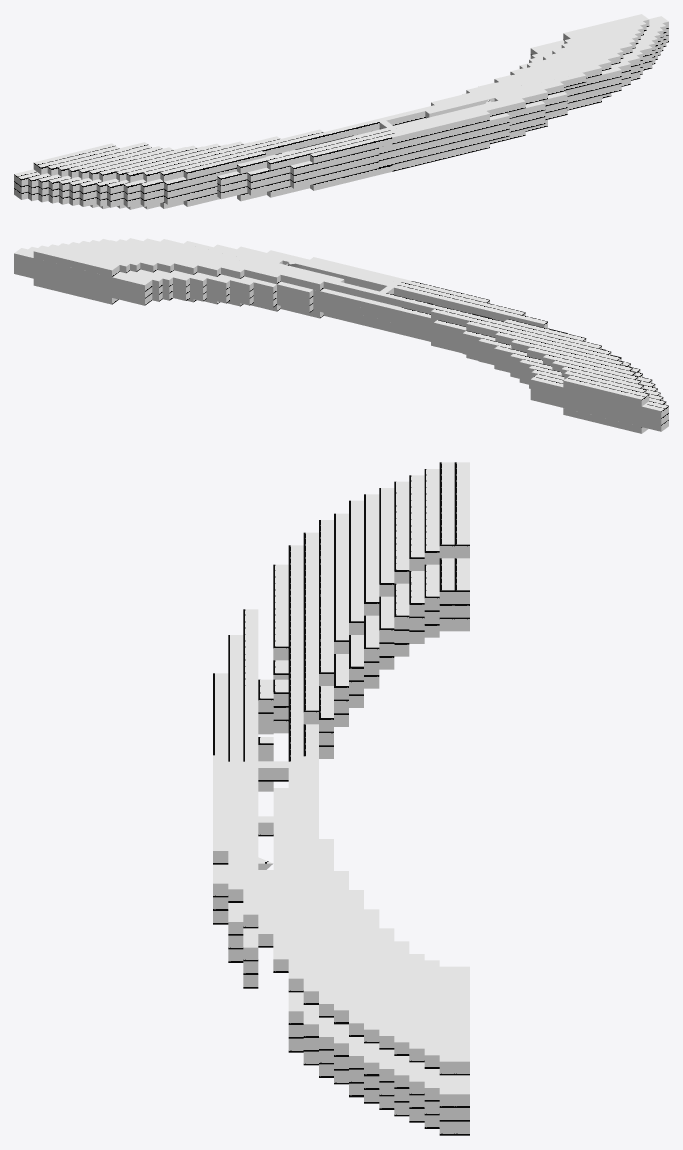
Rendered from VoxelBeamOBJ.obj.
The picture shows the model from 3 angles, top to bottom: view 1: azimuth 30°, elevation 25°; view 2: azimuth 150°, elevation 25°; view 3: azimuth 270°, elevation 25°; orthographic projection. The views are drawn at different scales.
Visible parts, largest first — view 1: polySurface1836; view 2: polySurface1836; view 3: polySurface1836.
Part boxes in pixels (<box>): polySurface1836: <box>14,14,668,209</box>; polySurface1836: <box>14,238,668,433</box>; polySurface1836: <box>213,462,469,1135</box>.
Size of the model in its own units: 9.9 by 0.5002 by 1.7.
